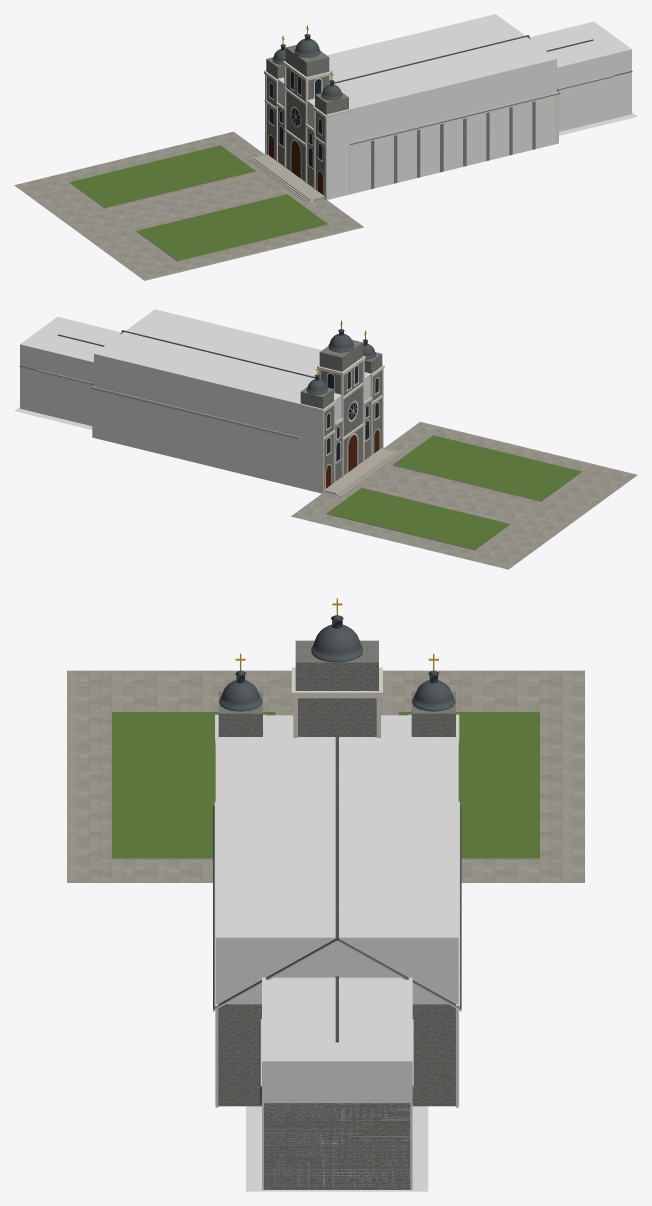
Rendered from dongtang.glb.
3 views of the same model, one above another, from view 1: azimuth 30°, elevation 25°; view 2: azimuth 150°, elevation 25°; view 3: azimuth 270°, elevation 25° (orthographic). The views are drawn at different scales.
Visible parts, largest first — view 1: Church, COL_nave, COL_chancel, Massing; view 2: Church, COL_nave, COL_chancel, Massing; view 3: Church, COL_nave, COL_chancel, Massing, FOOTPRINT_chancel.
Boxes of the visible parts, <box> form: Church: <box>14,25,613,280</box>; COL_nave: <box>265,14,556,199</box>; COL_chancel: <box>530,21,631,131</box>; Massing: <box>266,44,632,195</box>; Church: <box>37,320,637,569</box>; COL_nave: <box>94,309,382,493</box>; COL_chancel: <box>20,316,120,425</box>; Massing: <box>19,339,382,489</box>; Church: <box>67,598,584,1107</box>; COL_nave: <box>215,715,458,1004</box>; COL_chancel: <box>262,977,412,1189</box>; Massing: <box>213,640,461,1189</box>; FOOTPRINT_chancel: <box>246,1106,428,1191</box>.
Bounding box in the file's own units: 109 × 29.01 × 46.
Materials: 10 (3 with a texture image).
